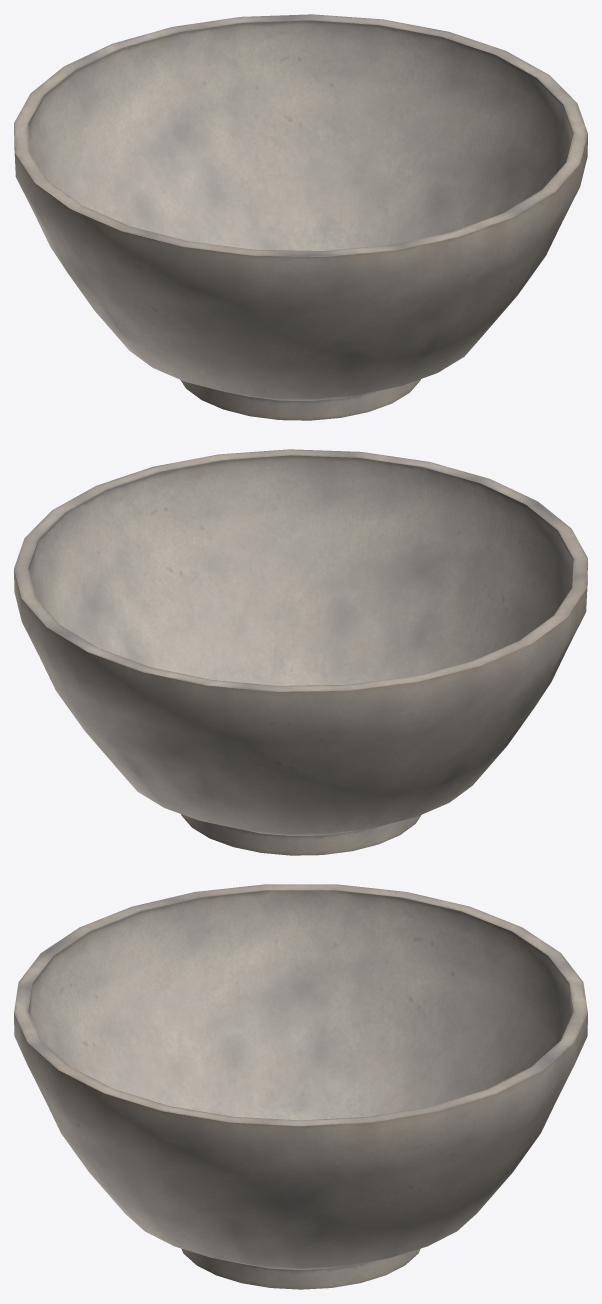
Rendered from 3DArt_Props_Bowl_Model_Amanda_V1.fbx.
3 renders of one model, top to bottom at view 1: azimuth 30°, elevation 25°; view 2: azimuth 150°, elevation 25°; view 3: azimuth 270°, elevation 25°, orthographic.
Visible parts, largest first — view 1: Cylinder001; view 2: Cylinder001; view 3: Cylinder001.
Part boxes in pixels (x1,y1,x2,y2): Cylinder001: (14, 14, 587, 420); Cylinder001: (14, 449, 587, 855); Cylinder001: (14, 884, 587, 1289).
Bounding box in the file's own units: 39.75 × 18.49 × 39.83.
Materials: 1 (1 with a texture image).
